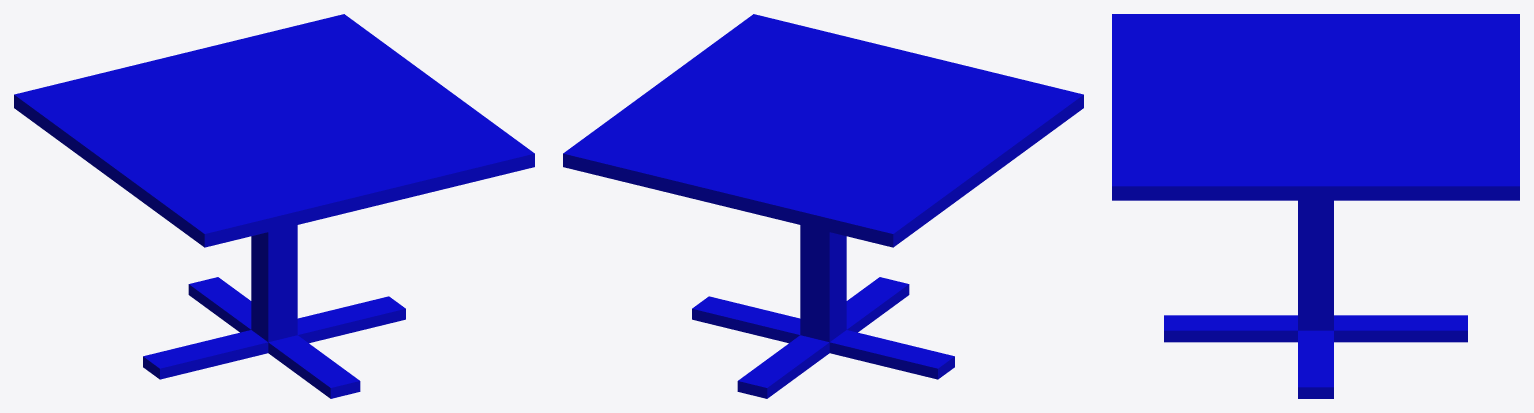
Rendered from TV_Proxy_Table.fbx.
3 views of the same model, side by side, from view 1: azimuth 30°, elevation 25°; view 2: azimuth 150°, elevation 25°; view 3: azimuth 270°, elevation 25° (orthographic). The views are drawn at different scales.
Parts seen in each view (by area): view 1: Table_Proxy; view 2: Table_Proxy; view 3: Table_Proxy.
Part boxes in pixels (x1,y1,x2,y2): Table_Proxy: (14, 14, 534, 398); Table_Proxy: (563, 14, 1083, 398); Table_Proxy: (1112, 14, 1519, 398).
Size of the model in its own units: 2510 by 1593 by 2510.
